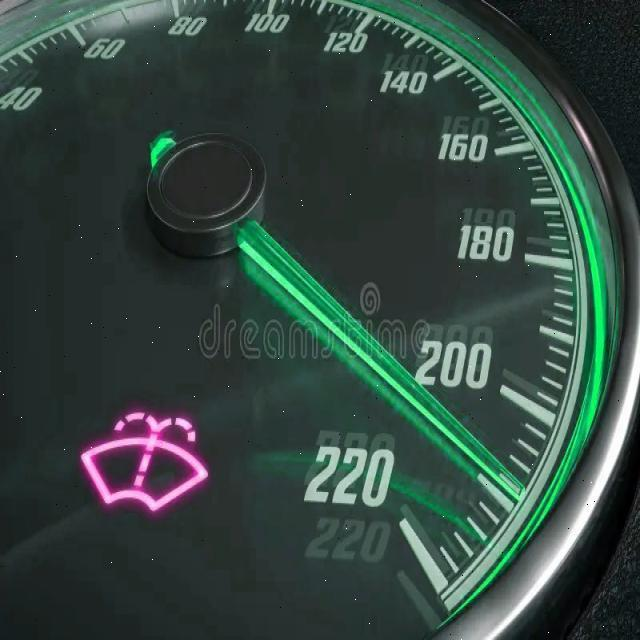Washer Fluid: (84, 408, 212, 512)
